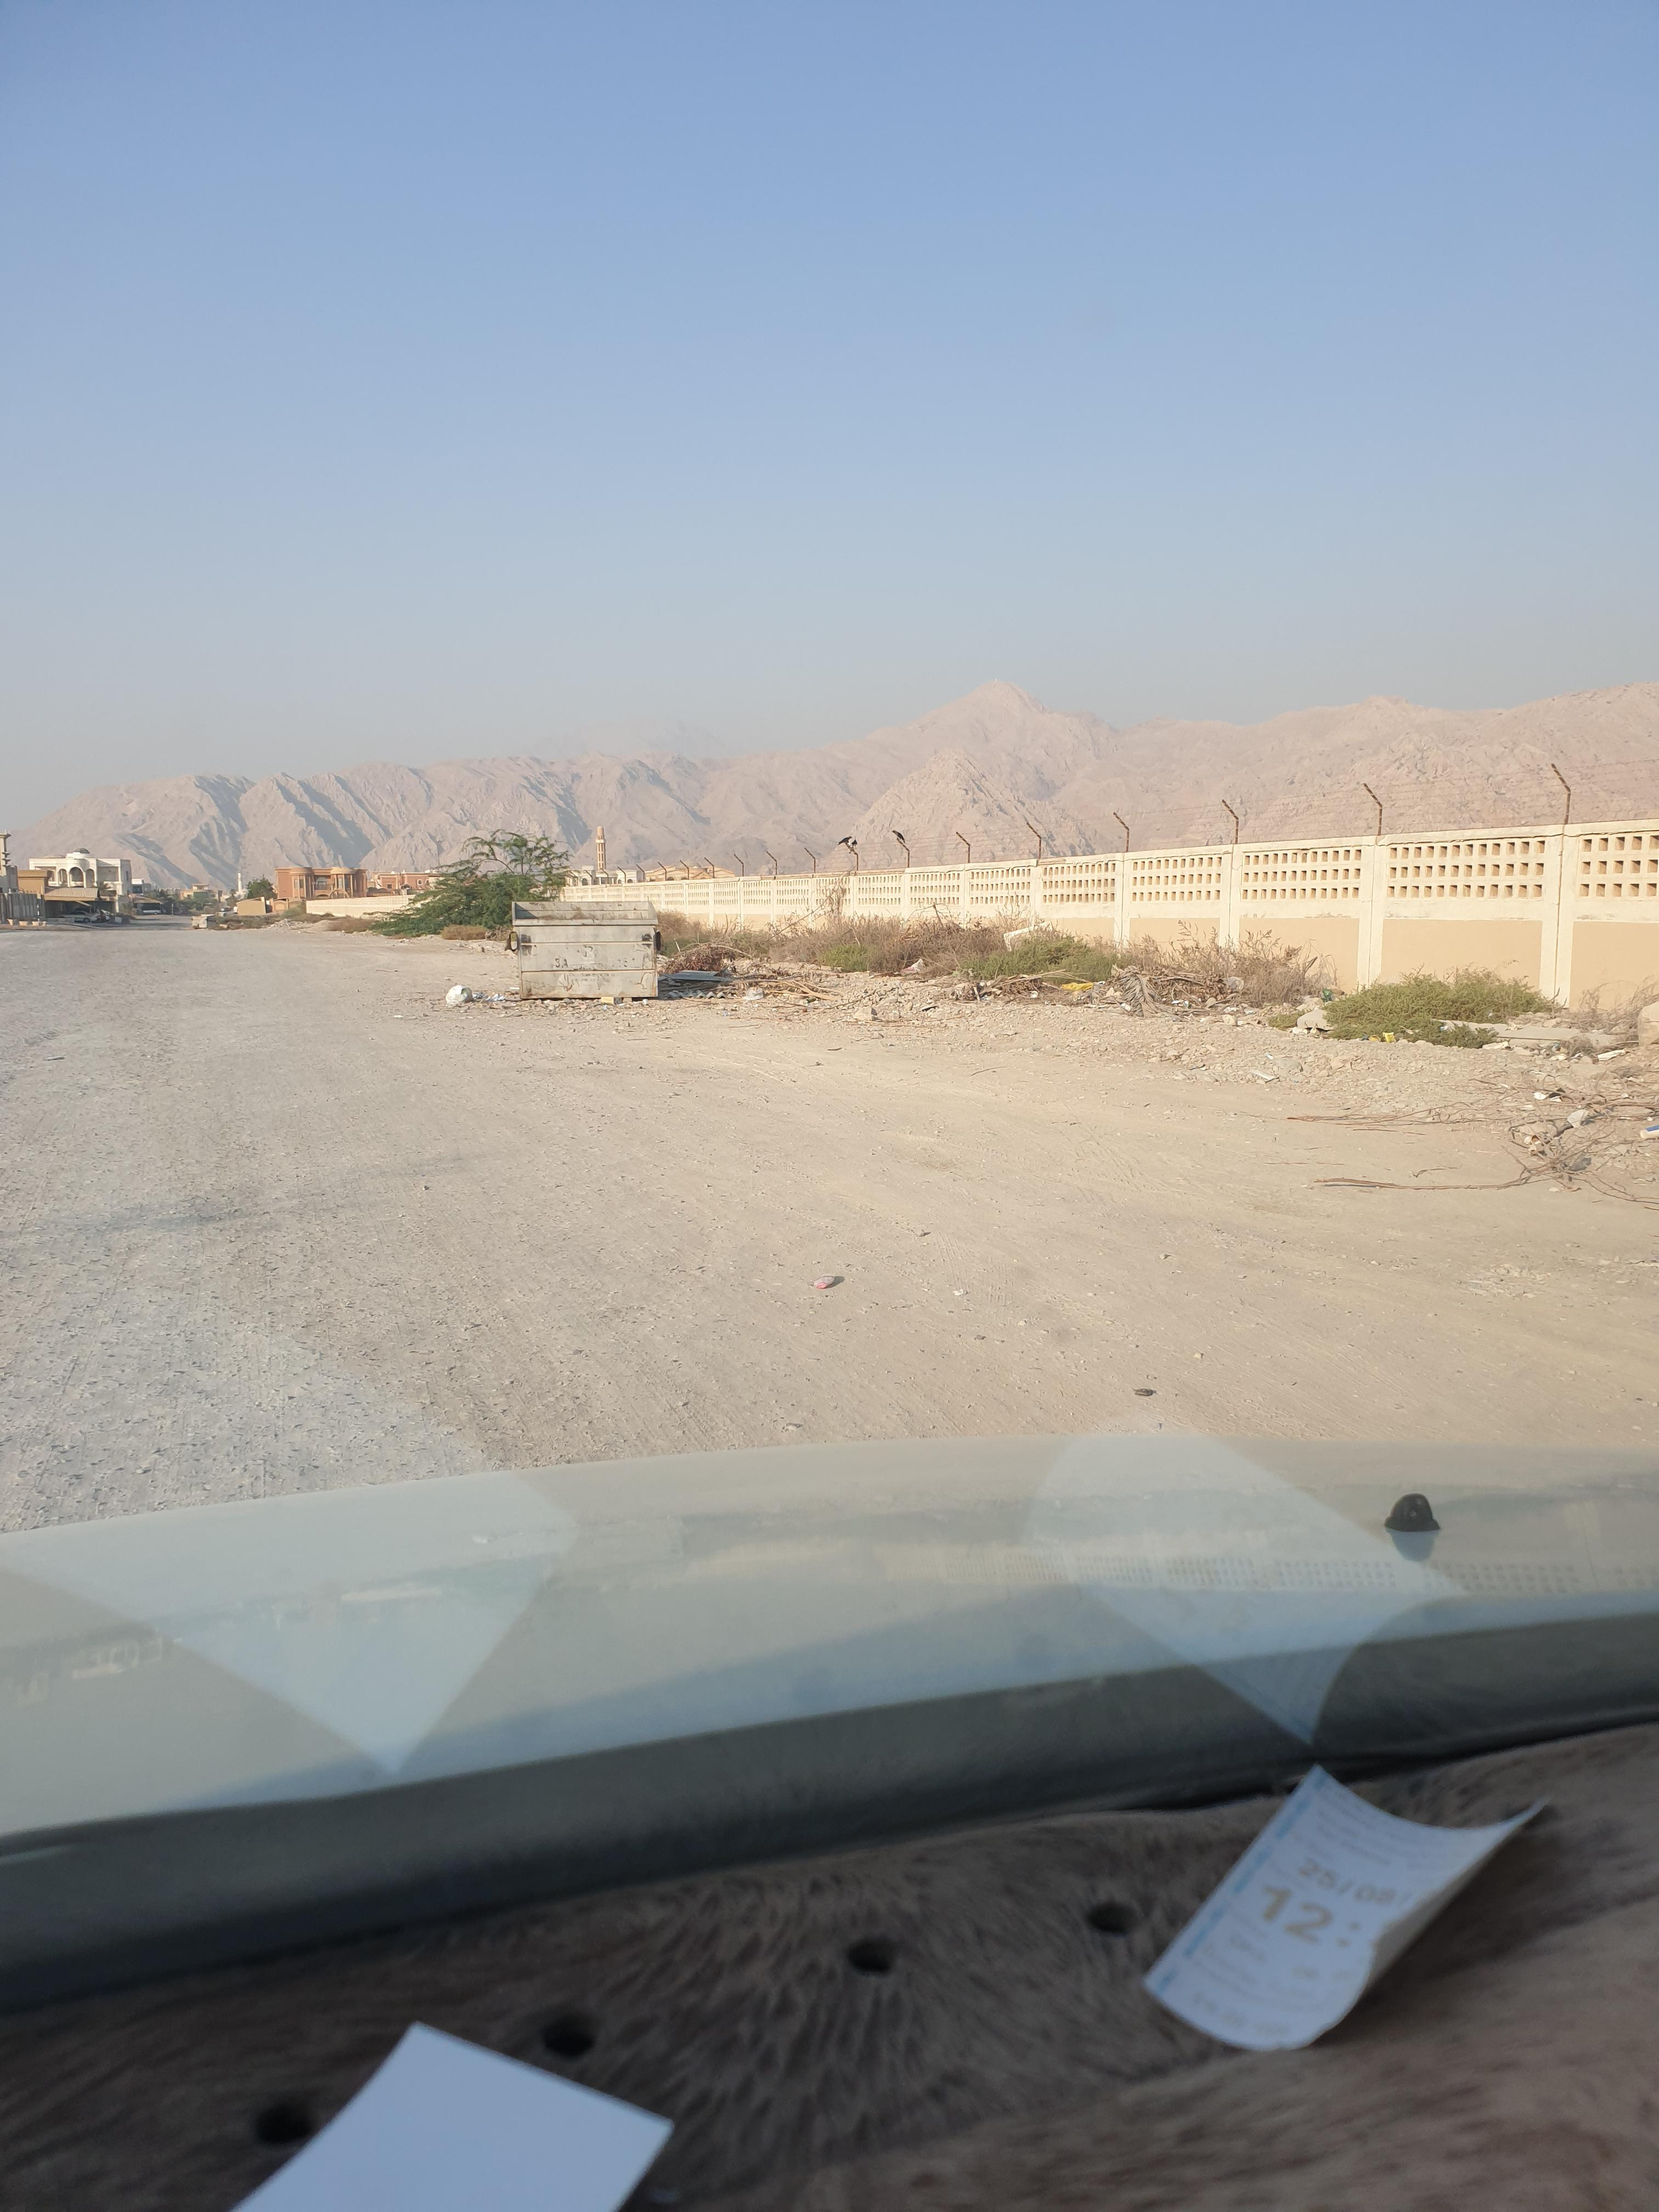fallen_trees: (1305, 1160, 1561, 1200), (1513, 1122, 1621, 1195), (1277, 1101, 1464, 1137), (741, 953, 840, 1007), (1105, 967, 1192, 1021), (934, 968, 1061, 1003), (857, 1012, 934, 1036)
